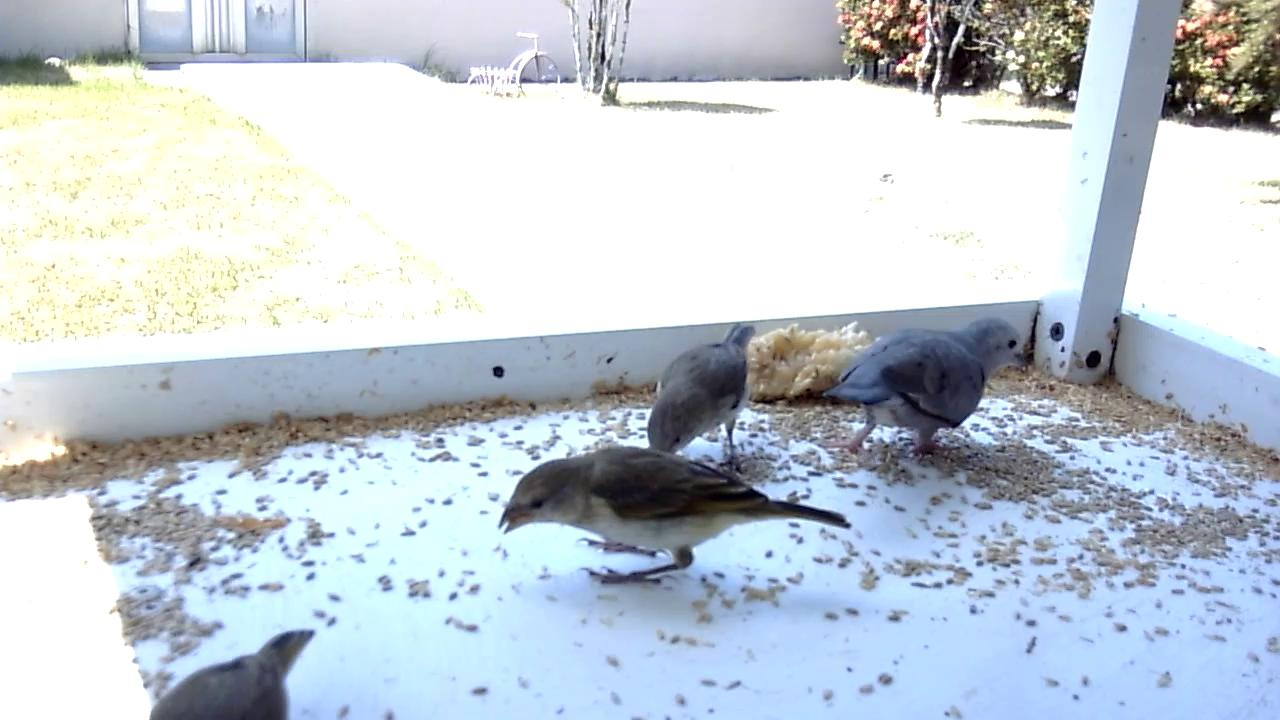canario_do_amazonas: (495, 443, 857, 591), (141, 620, 335, 720), (648, 322, 773, 477)
rolinha: (816, 314, 1037, 467)
